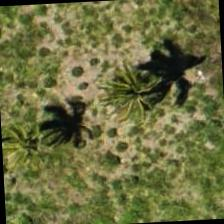Kelapa_Sawit: (91, 45, 186, 140), (0, 96, 75, 191)
